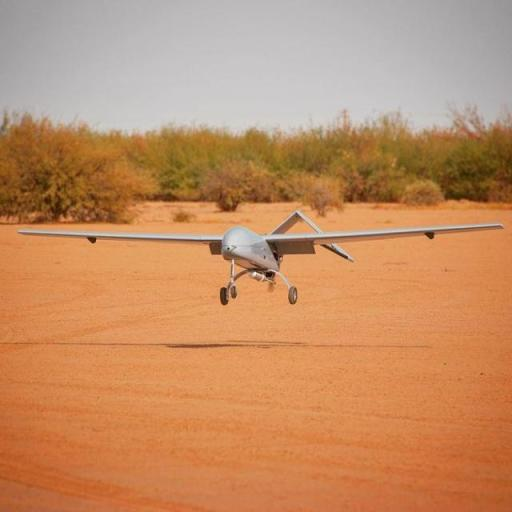uav: (20, 205, 506, 292)
